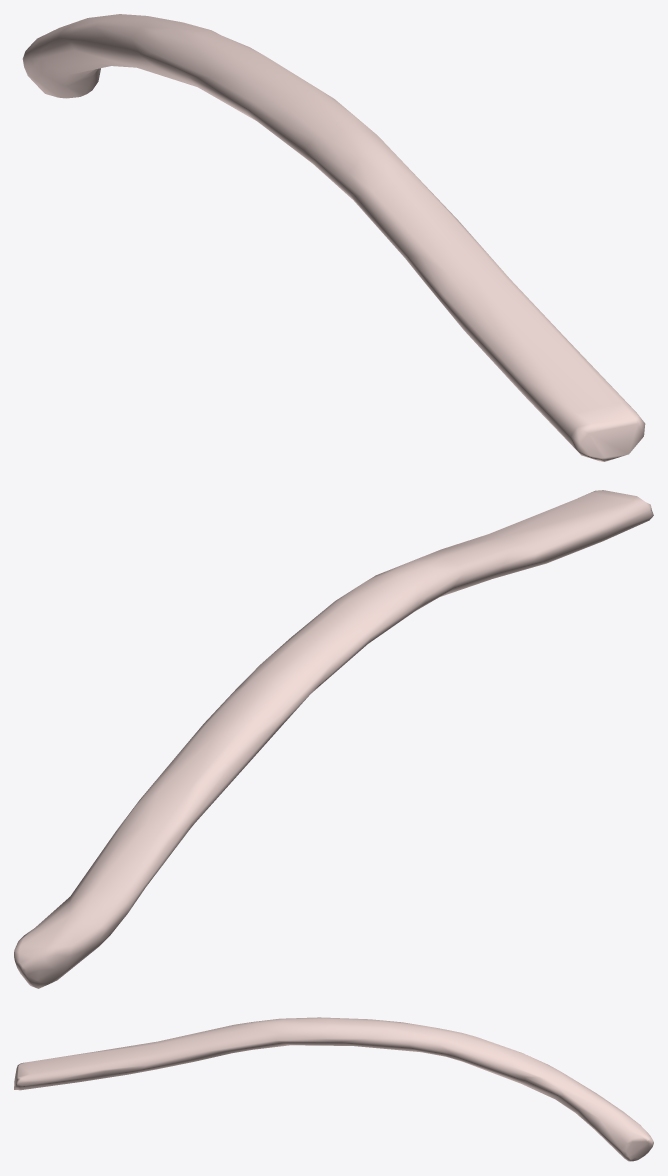
File: esophagus.glb
3 renders of one model, top to bottom at view 1: azimuth 30°, elevation 25°; view 2: azimuth 150°, elevation 25°; view 3: azimuth 270°, elevation 25°, orthographic. The views are drawn at different scales.
Parts seen in each view (by area): view 1: esophagus; view 2: esophagus; view 3: esophagus.
Part boxes in pixels (left/top/right/bottom): esophagus: left=22, top=14, right=645, bottom=461; esophagus: left=14, top=490, right=653, bottom=988; esophagus: left=14, top=1017, right=653, bottom=1161.
Size of the model in its own units: 32.44 by 57.91 by 274.
